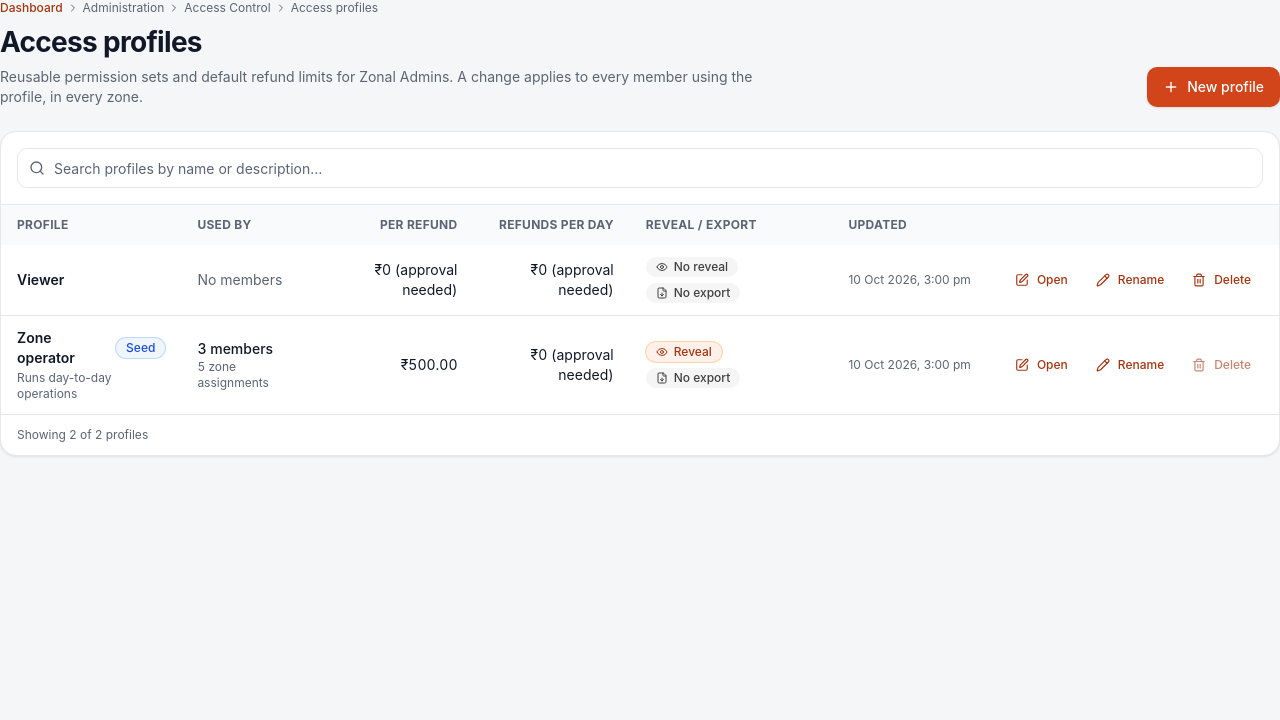
Test case: access profiles list › Delete is disabled, with the reason, while members use the profile
Click the button with aria-label "Delete Zone operator" at (1222, 365), box [1180,349,1263,381]
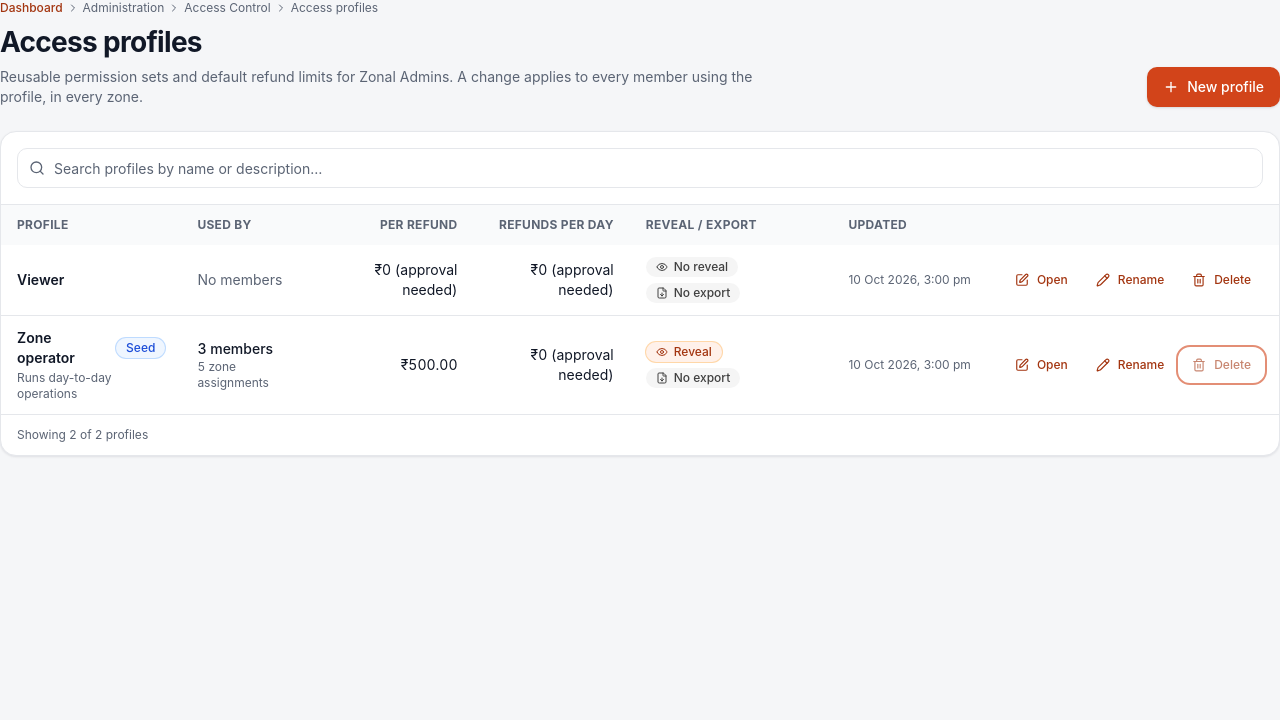
Click the button with aria-label "Delete Viewer" at (1222, 280), box [1180,264,1263,296]
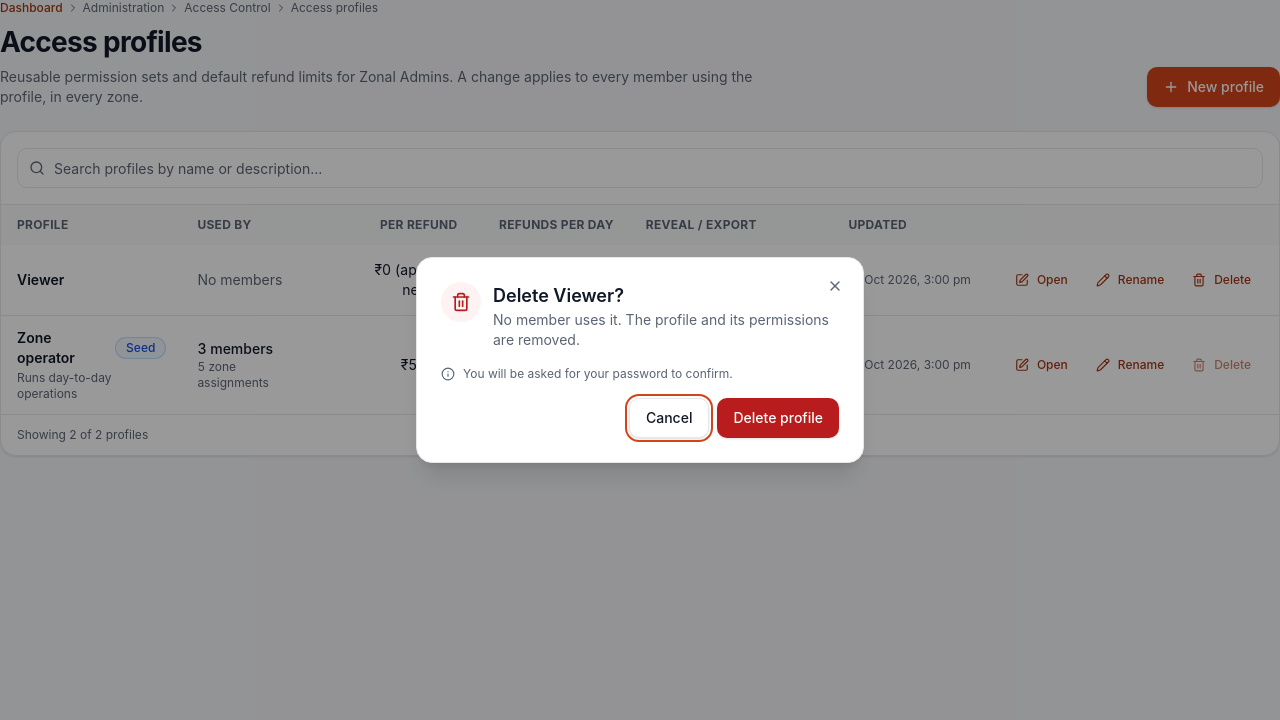
Check: the dialog "Delete Viewer?" is shown, box [416,257,864,463]
